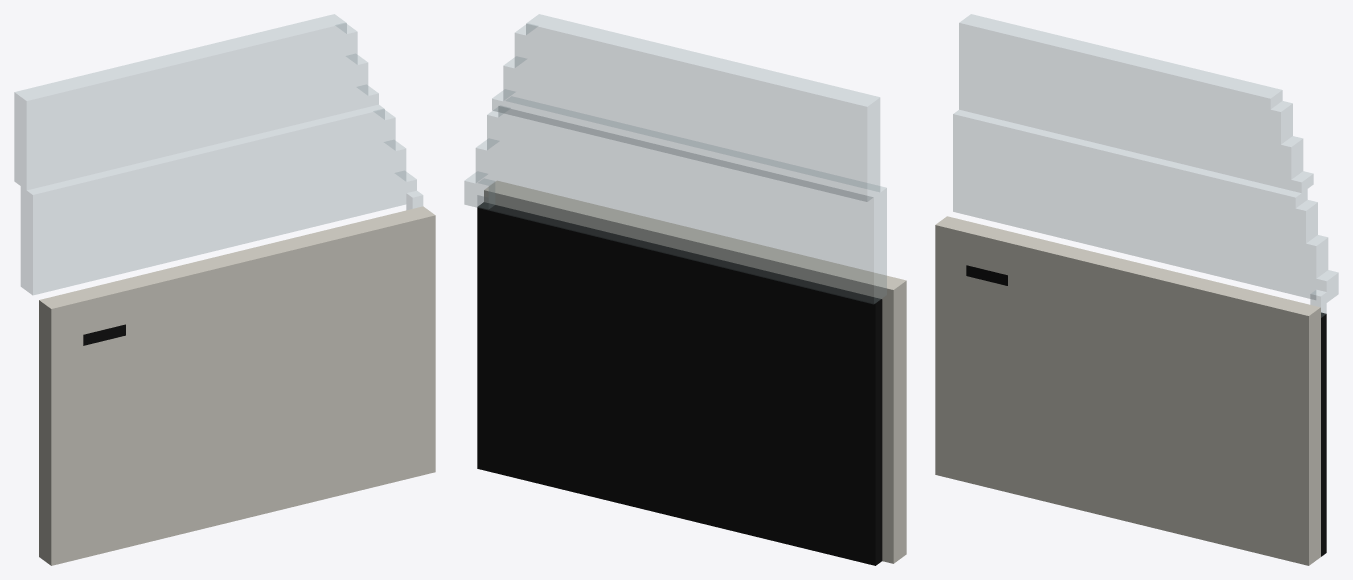
The model's file is classic_4x4_front_door.glb.
3 views of the same model, side by side, from view 1: azimuth 30°, elevation 25°; view 2: azimuth 150°, elevation 25°; view 3: azimuth 330°, elevation 25° (orthographic). The views are drawn at different scales.
Visible parts, largest first — view 1: body:compound; view 2: body:compound; view 3: body:compound.
Boxes of the visible parts, x1,y1,x2,y2 form: body:compound: [14, 14, 435, 565]; body:compound: [464, 14, 906, 565]; body:compound: [935, 14, 1338, 565].
Size of the model in its own units: 1.12 by 1.25 by 0.1875.
